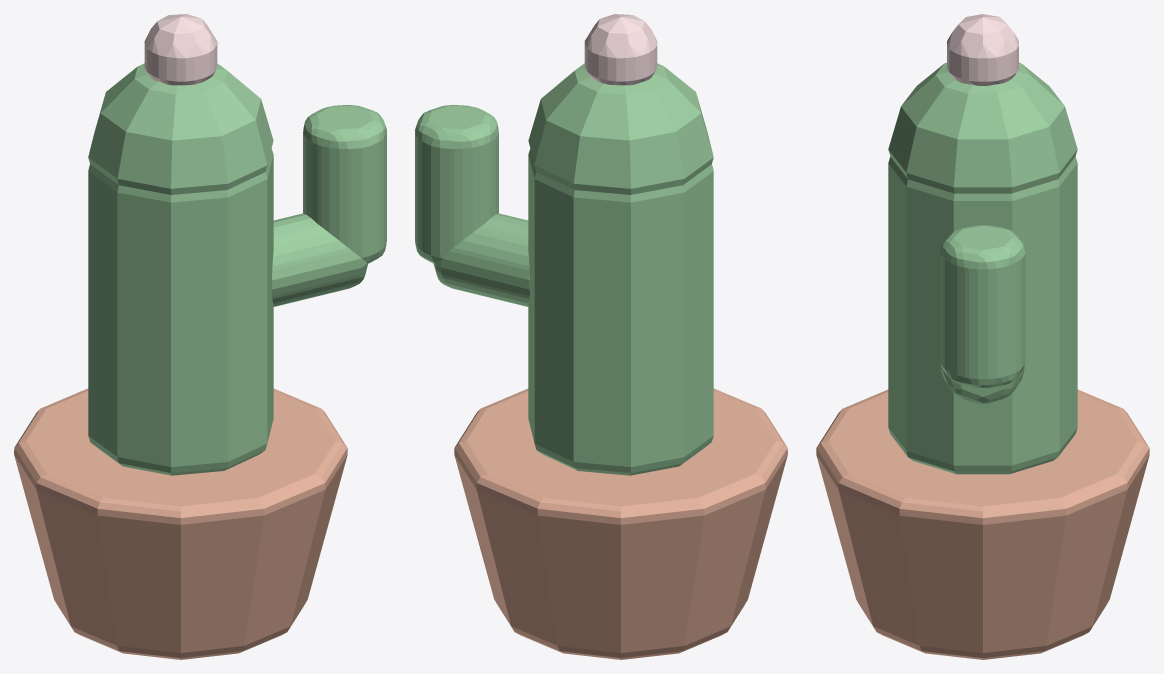
File: Cactus.fbx
3 views of the same model, side by side, from view 1: azimuth 30°, elevation 25°; view 2: azimuth 150°, elevation 25°; view 3: azimuth 270°, elevation 25° (orthographic).
Parts seen in each view (by area): view 1: Cactus; view 2: Cactus; view 3: Cactus.
Boxes of the visible parts, x1,y1,x2,y2 form: Cactus: (14,14,386,659); Cactus: (415,14,787,659); Cactus: (816,14,1149,659).
Bounding box in the file's own units: 0.21 × 0.347 × 0.1761.
